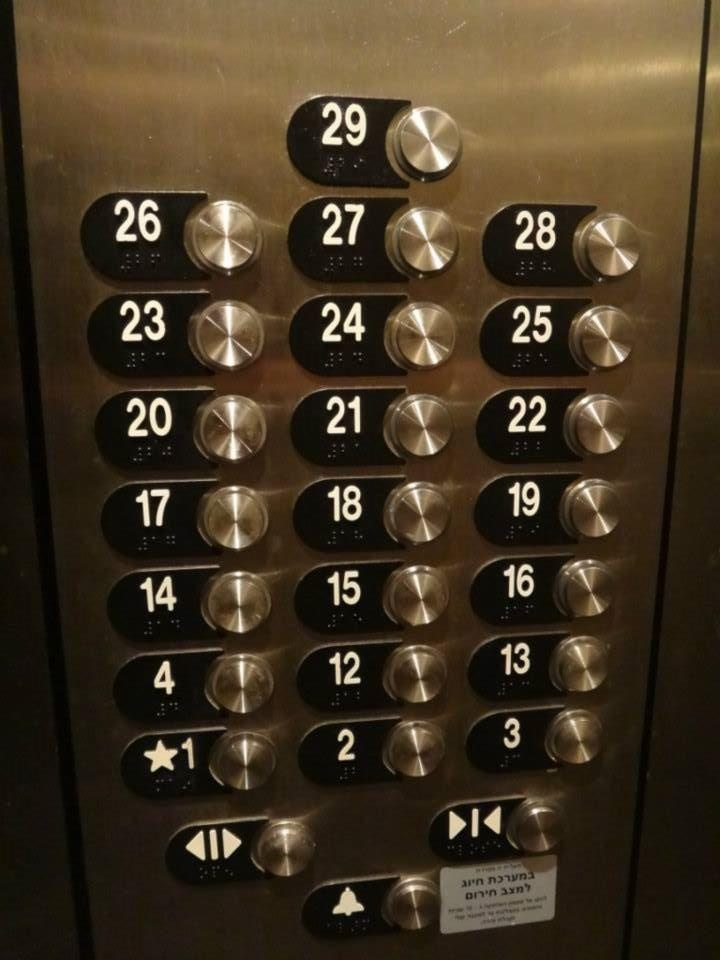12: (290, 637, 451, 713)
13: (465, 628, 617, 704)
14: (106, 563, 275, 648)
15: (291, 557, 453, 636)
16: (467, 551, 623, 628)
17: (99, 476, 271, 564)
18: (286, 472, 455, 553)
19: (470, 467, 628, 551)
2: (290, 711, 451, 788)
20: (90, 386, 272, 472)
21: (286, 385, 460, 468)
22: (474, 384, 634, 466)
23: (90, 287, 269, 382)
24: (285, 288, 464, 379)
25: (478, 294, 638, 376)
26: (82, 184, 265, 283)
27: (285, 192, 466, 283)
28: (482, 200, 645, 291)
29: (286, 91, 466, 189)
3: (465, 704, 610, 774)
4: (112, 647, 277, 723)
alarm: (299, 868, 444, 941)
close: (429, 790, 569, 869)
open: (160, 814, 320, 888)
s1: (117, 723, 282, 801)
